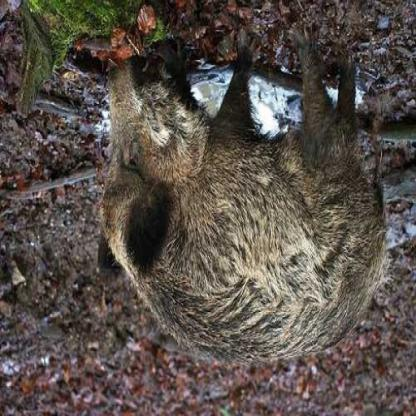boar: (90, 66, 394, 381)
